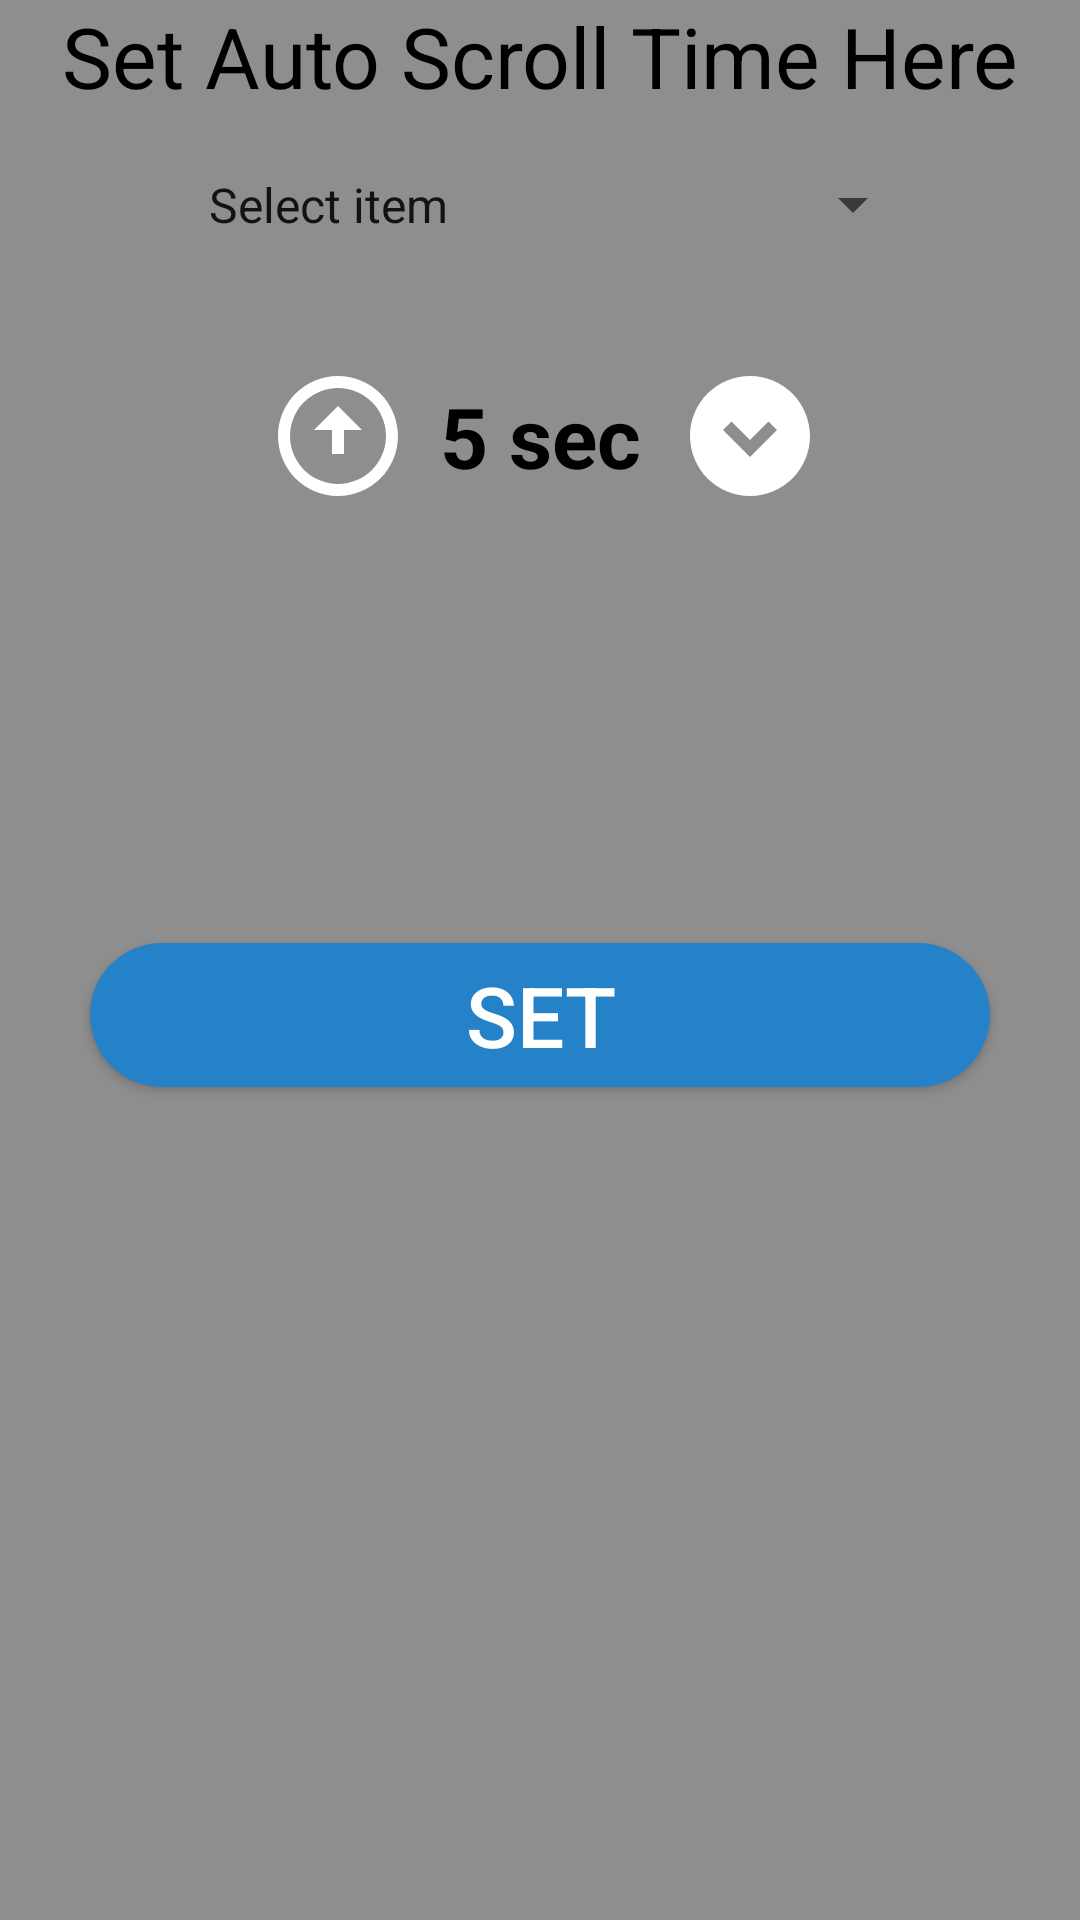

Screen size 1080x1920. Icon name, then its center in pixels as [x,y]:
down arrow: [750,436]
up arrow: [338,436]
